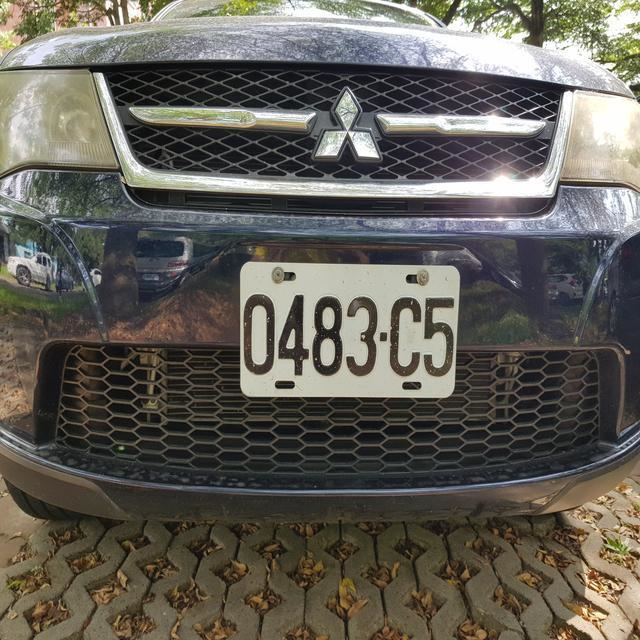license: (235, 265, 457, 396)
